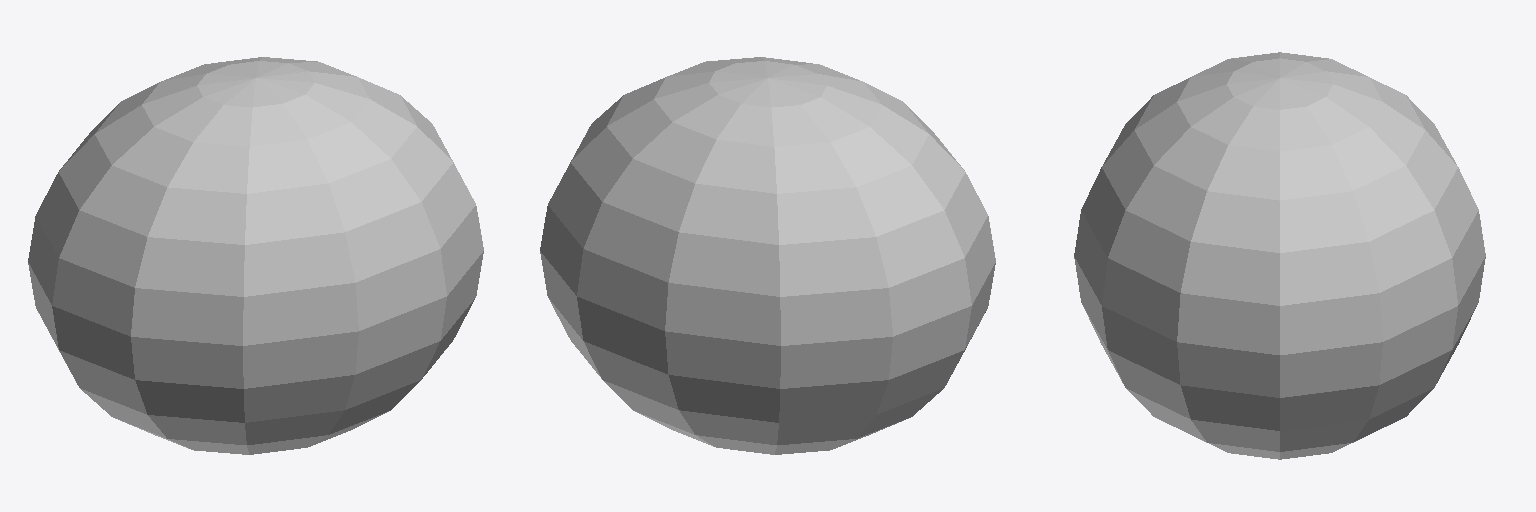
Rendered from mozarthead.obj.
3 renders of one model, left to right at view 1: azimuth 30°, elevation 25°; view 2: azimuth 150°, elevation 25°; view 3: azimuth 270°, elevation 25°, orthographic.
Visible parts, largest first — view 1: Sphere_Sphere.003; view 2: Sphere_Sphere.003; view 3: Sphere_Sphere.003.
Boxes of the visible parts, x1=… form: Sphere_Sphere.003: x1=28, y1=57, x2=483, y2=454; Sphere_Sphere.003: x1=540, y1=57, x2=995, y2=454; Sphere_Sphere.003: x1=1074, y1=52, x2=1485, y2=459.
Size of the model in its own units: 3.12 by 2.6 by 2.73.